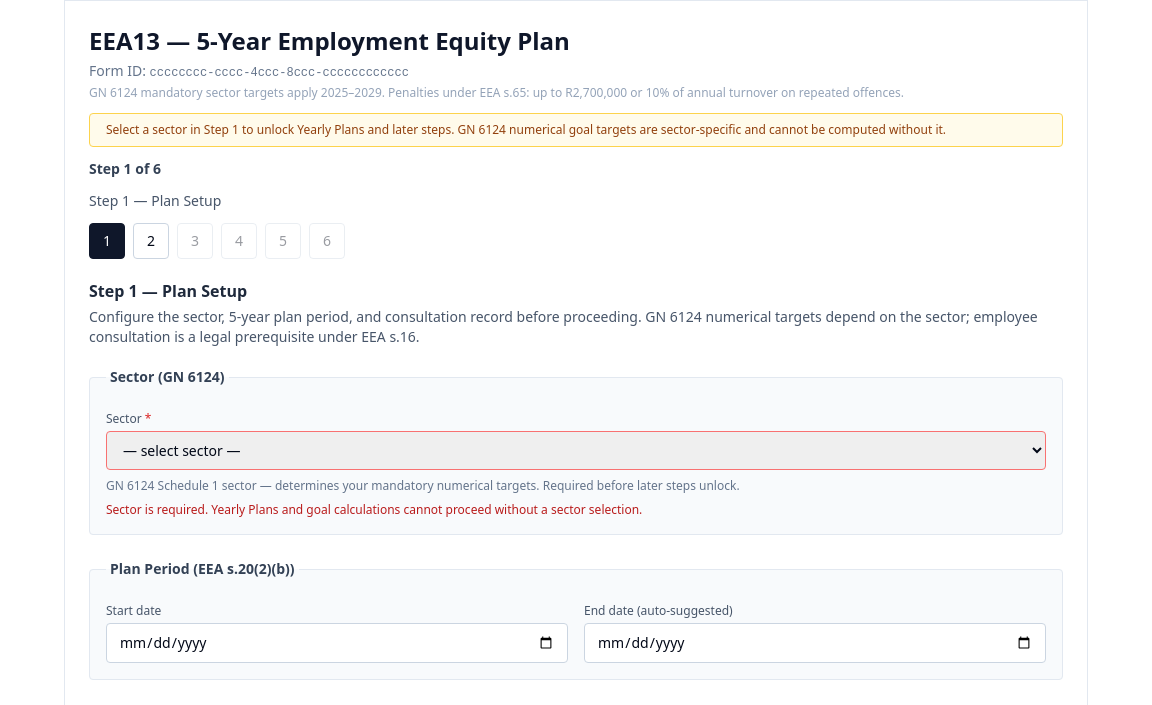
EEA13Form — sector gate › sector gate banner disappears after selecting a sector
This screenshot has width=1152, height=705.
Expected: the text with test id "eea13-sector-gate-banner" is shown, [89,113,1063,147]
Select "Manufacturing" in the dropdown with test id "eea13-sector-select". click: {"x": 576, "y": 450}
box: [106,431,1046,470]
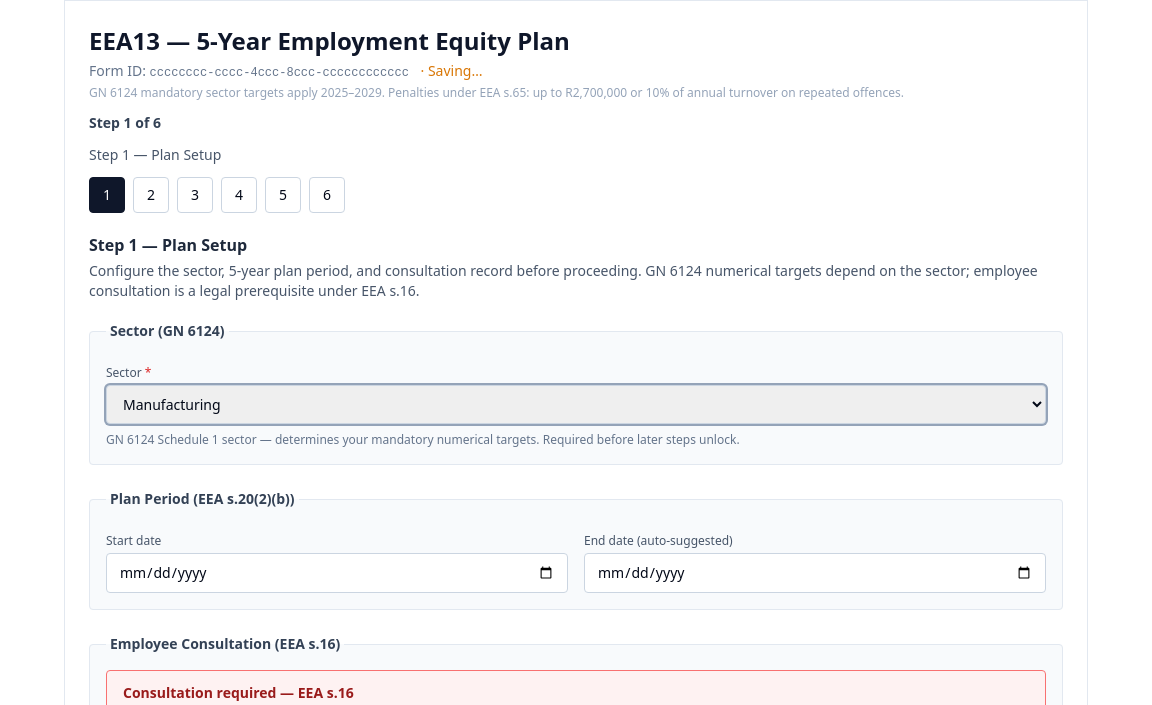
Result: the text with test id "eea13-sector-gate-banner" is gone
